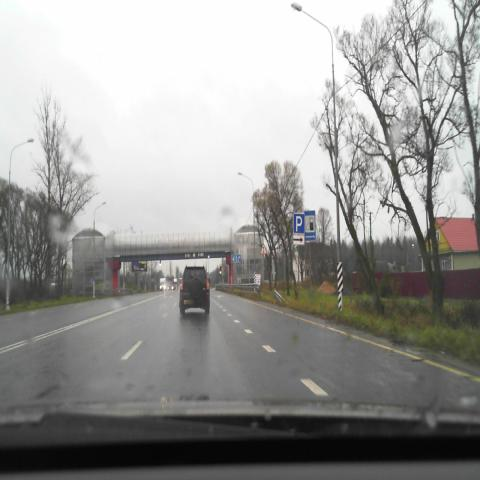6_4: (293, 213, 304, 234)
